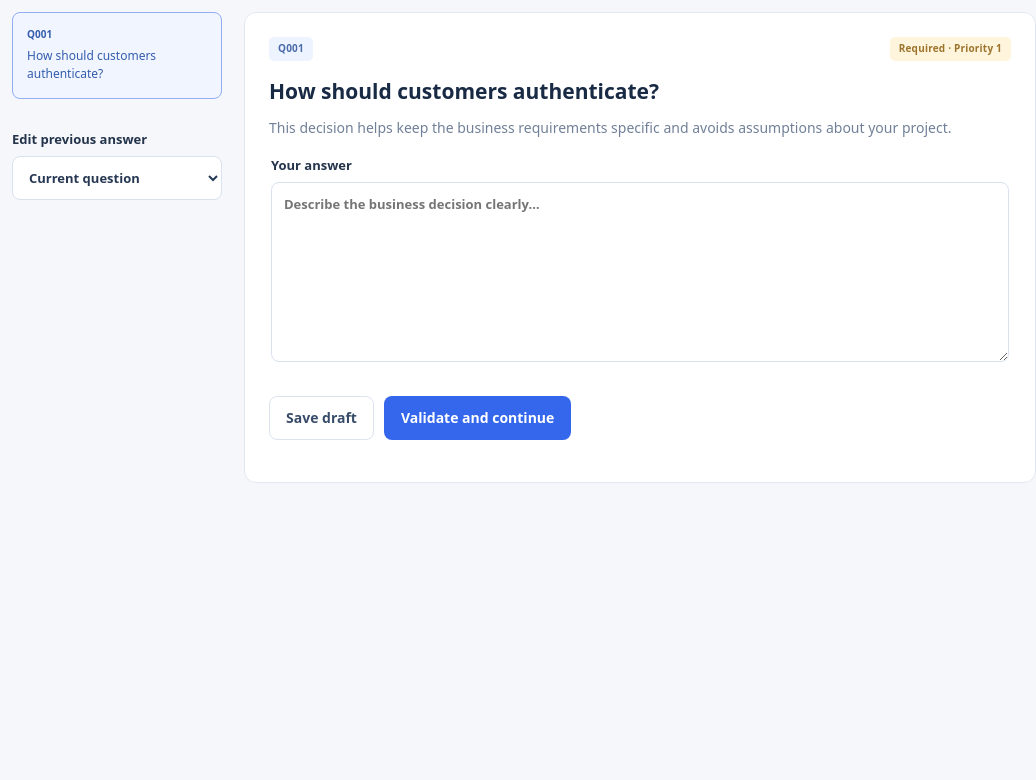
Test case: validates required input locally
Click the button "Validate and continue": (478, 418) x1=384 y1=396 x2=571 y2=440
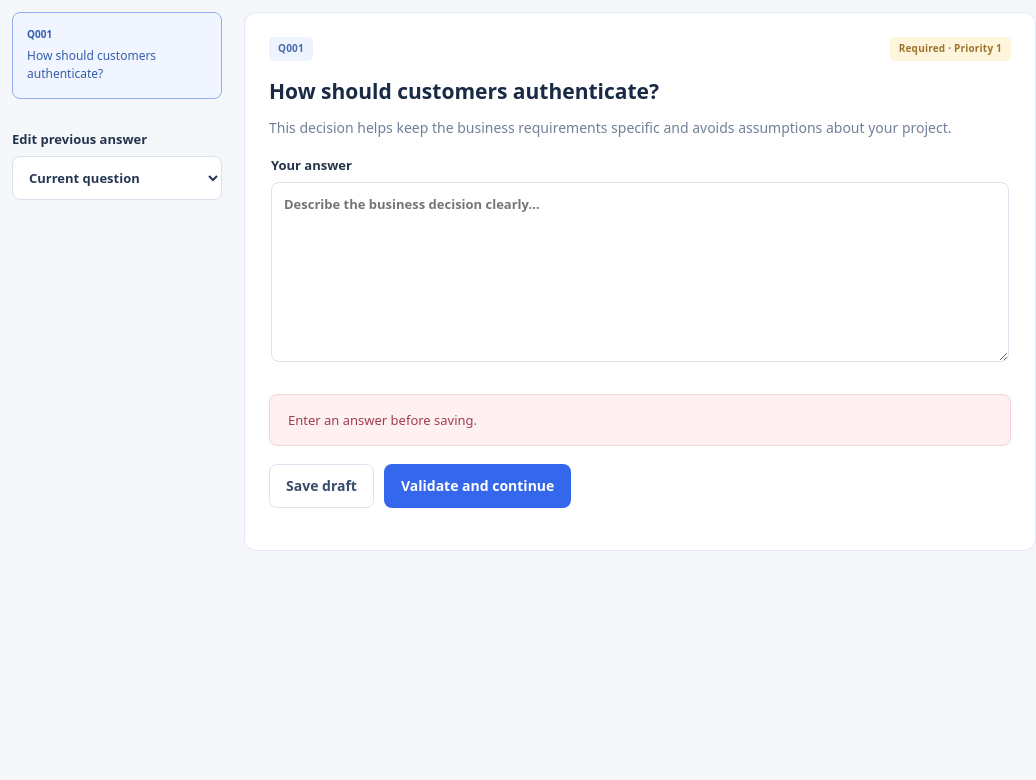
Expected: the message shows "Enter an answer", x1=288 y1=411 x2=477 y2=429
